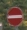No entry: (6, 5, 22, 25)
